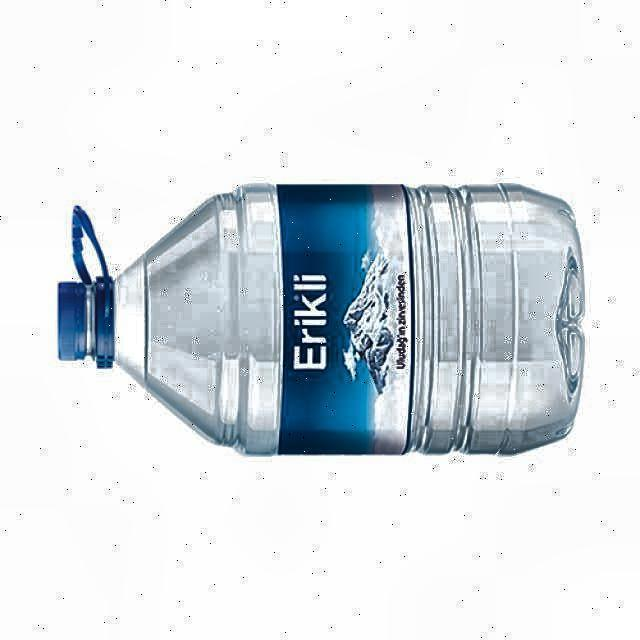plastic: (59, 184, 584, 455)
